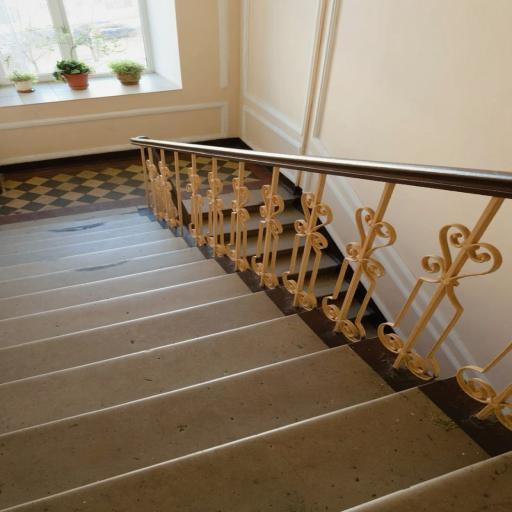laptop: (0, 207, 512, 512), (184, 157, 382, 339)
